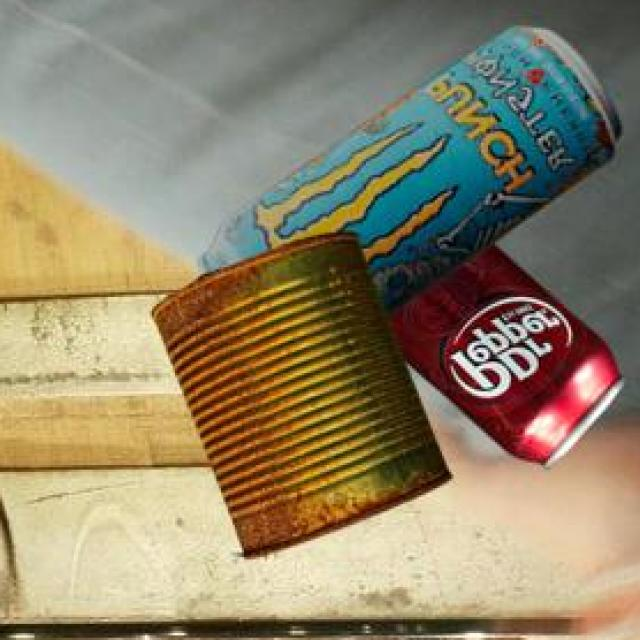logam: (195, 31, 618, 319), (148, 236, 448, 563), (383, 247, 623, 473)
